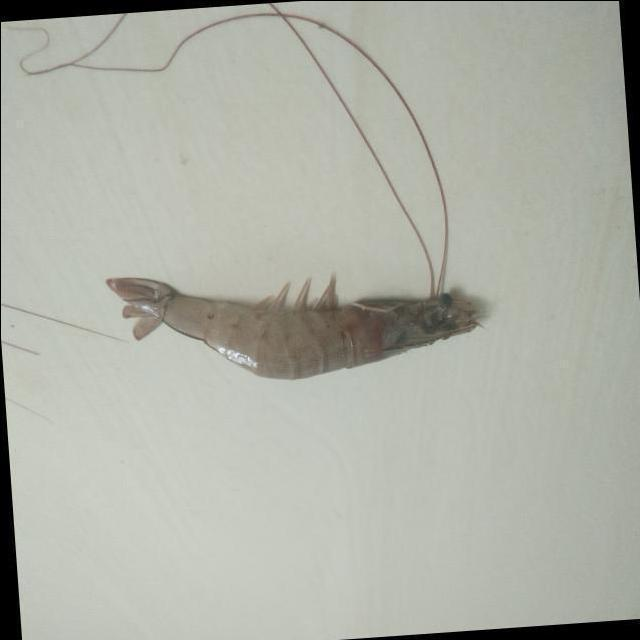shrimp: (105, 273, 479, 380)
